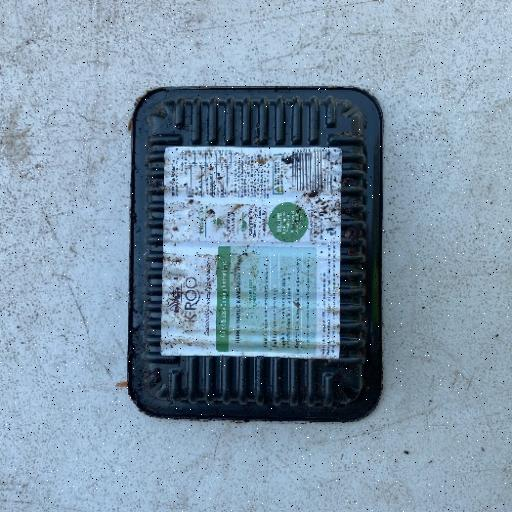Plastic: (125, 84, 385, 422), (159, 144, 343, 358)
